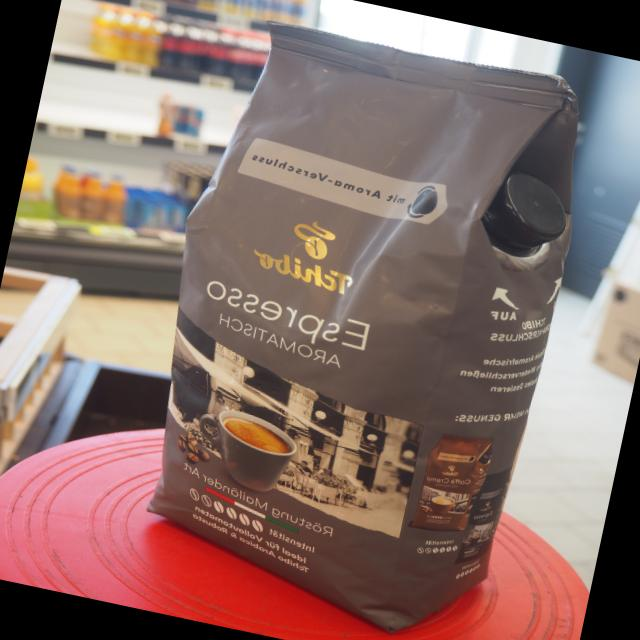Espresso Aromatisch: (96, 0, 609, 640)
